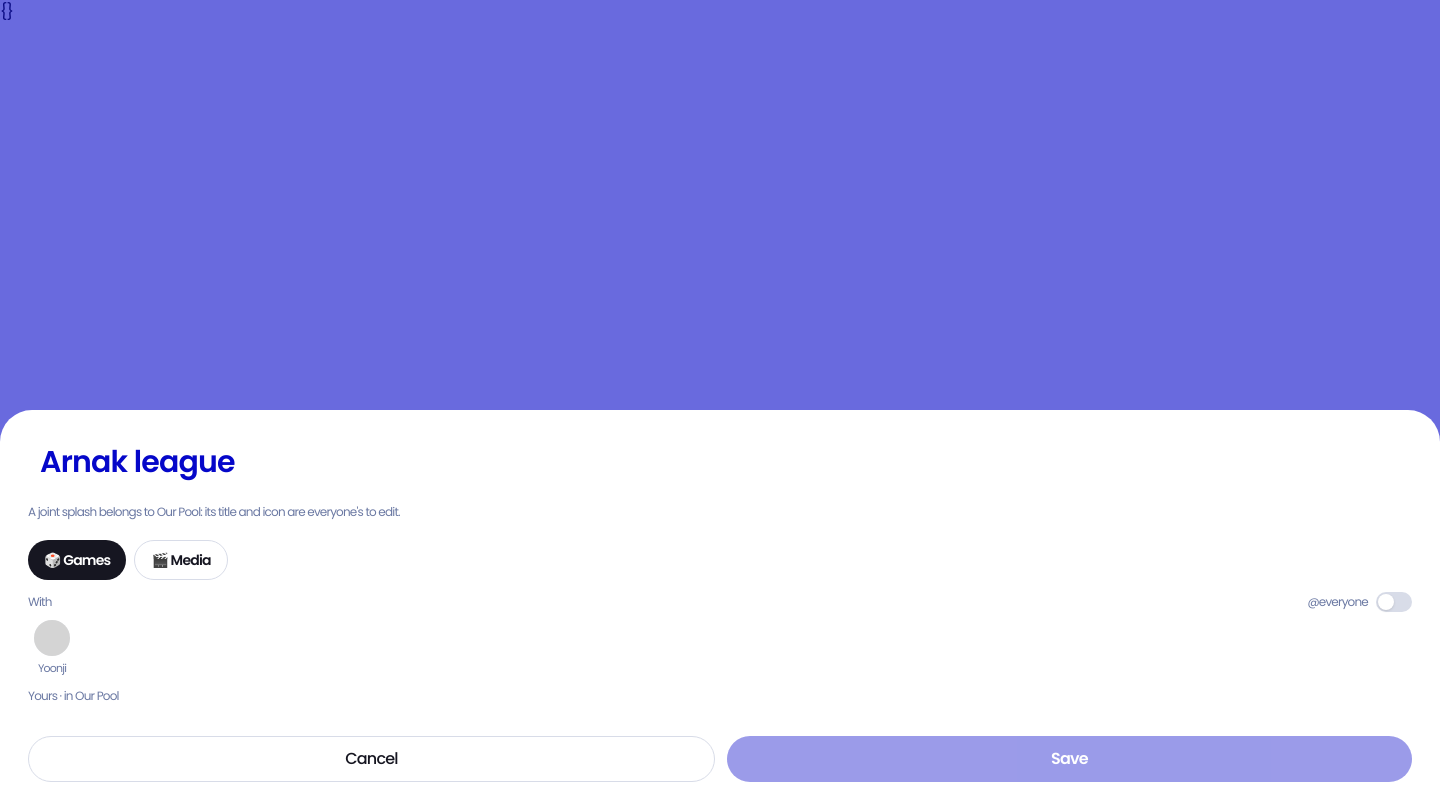
Test: a pool-lane move from the edit sheet (review) › takes the move back and says why when the save is refused
The image size is (1440, 810).
Expected: the element that starts with "Arnak league" is shown, [28,442,1412,809]
Click the button "🎬 Media" at (181, 560), box [134,540,228,580]
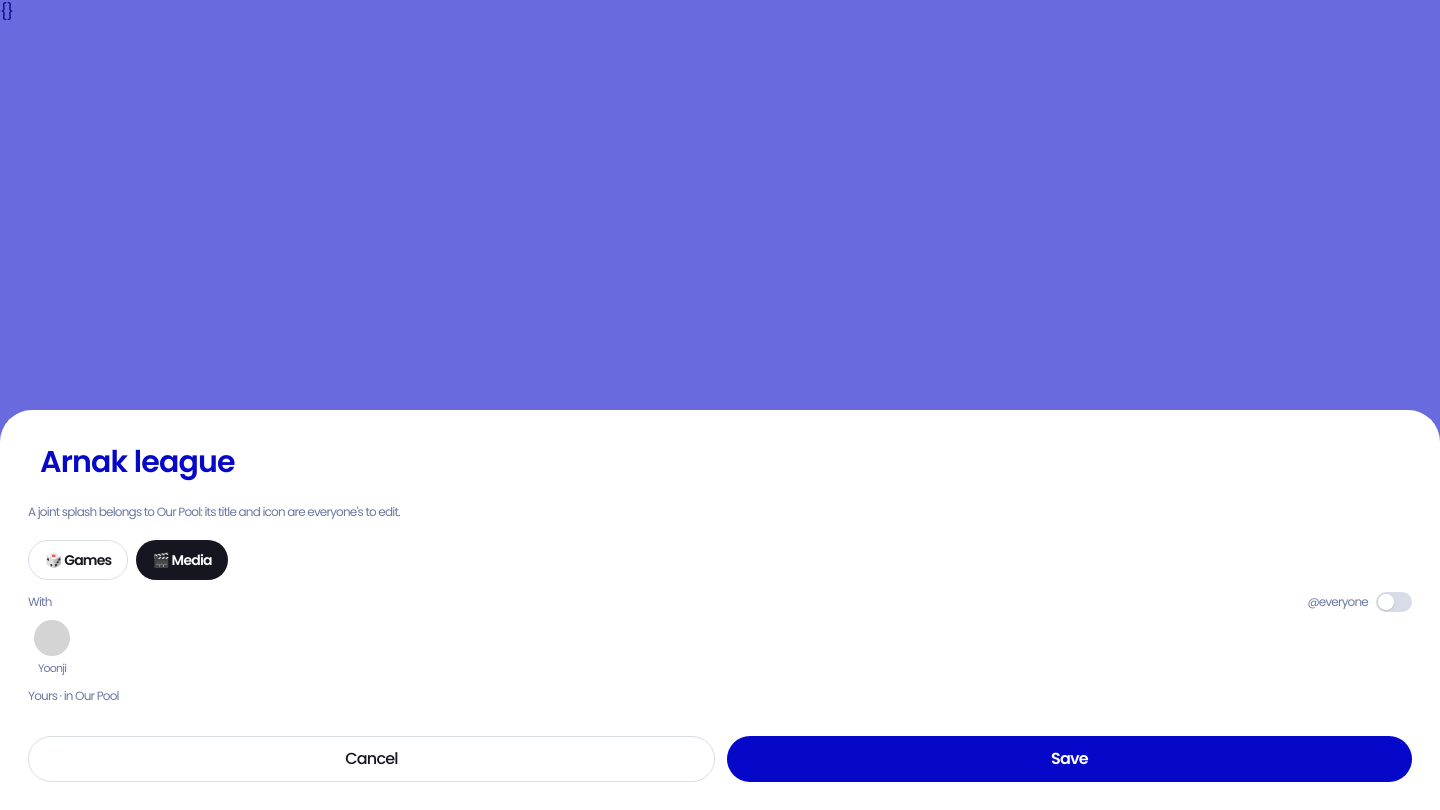
Click the button "Save" at (1070, 759), box [727,736,1412,782]
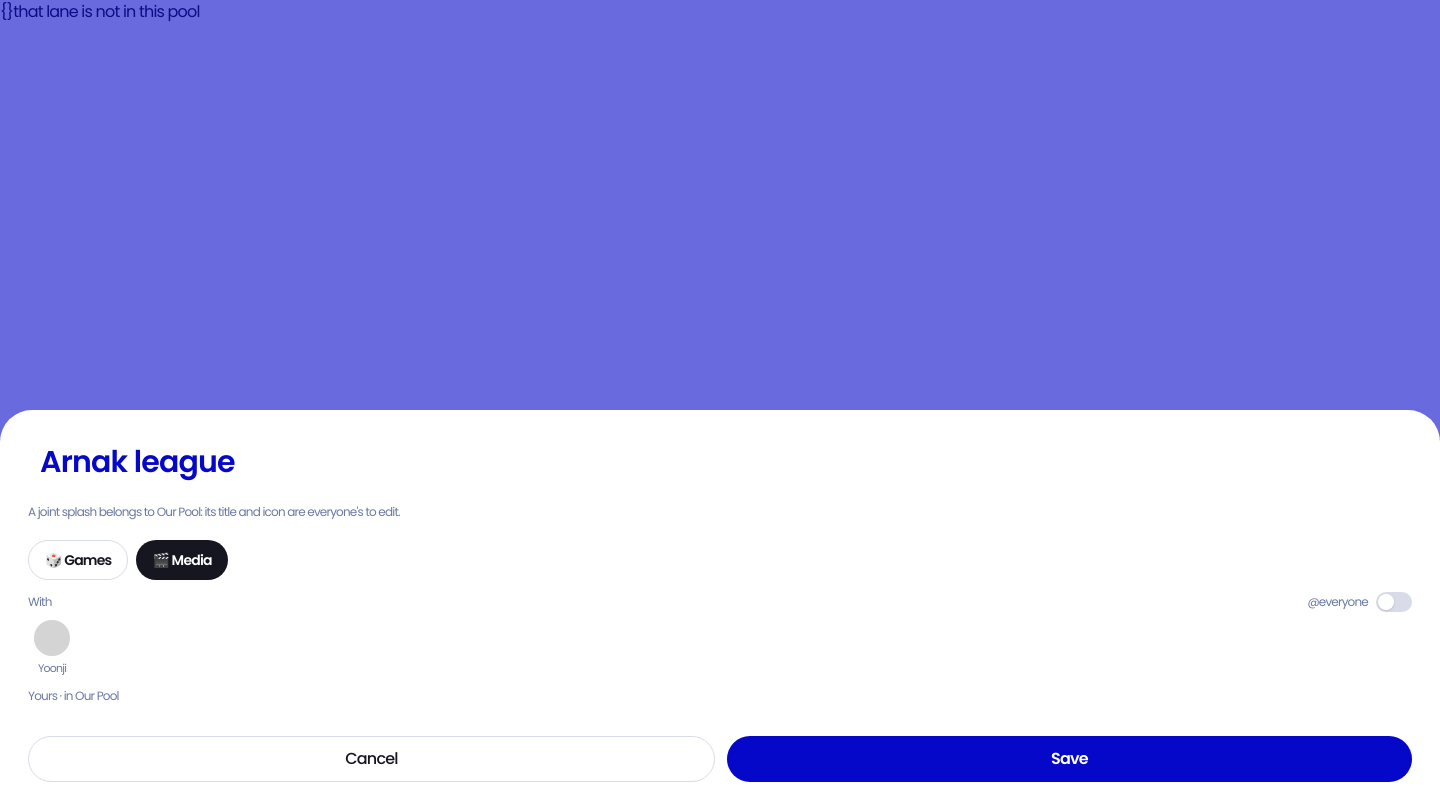
Now the text "that lane is not in this pool" is shown, box [13,0,200,23]
